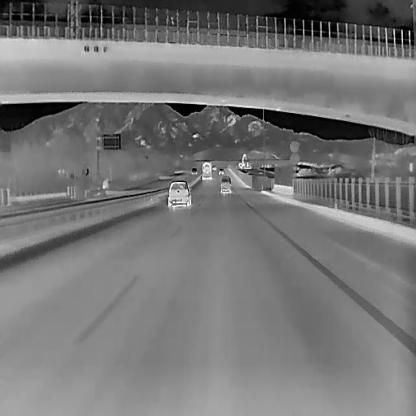car: (167, 180, 191, 206), (219, 174, 230, 192), (190, 166, 197, 174), (217, 166, 224, 174), (211, 162, 216, 171)
truck: (200, 160, 212, 180)
